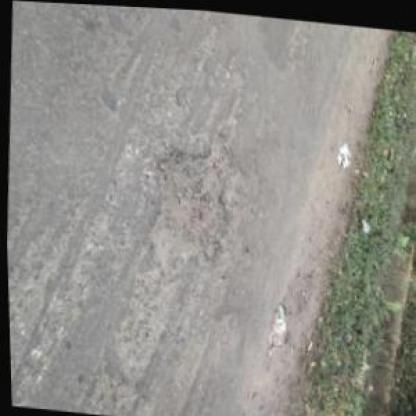pothole: (142, 124, 235, 274)
